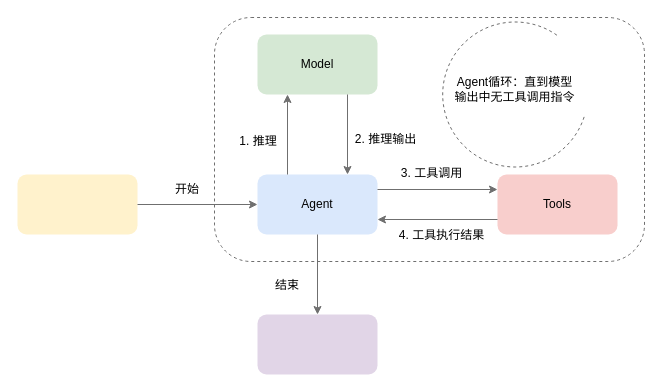
Some shapes in this 662 by 392 pixel diagram are drawn without their labels. The box of each missing label's shape, as (x1, y1, x2, y2) in pixels:
Output: (257, 314, 377, 374)
User Input: (17, 174, 137, 234)
